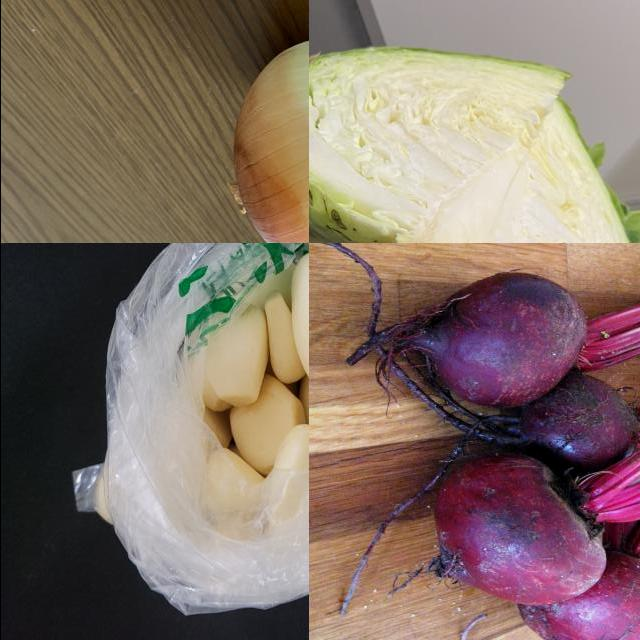beet: (427, 462, 623, 600), (390, 289, 606, 402), (527, 542, 640, 640), (528, 377, 640, 467)
cabbage: (309, 43, 640, 244)
garlic: (204, 252, 309, 480)
onion: (231, 33, 309, 244)
